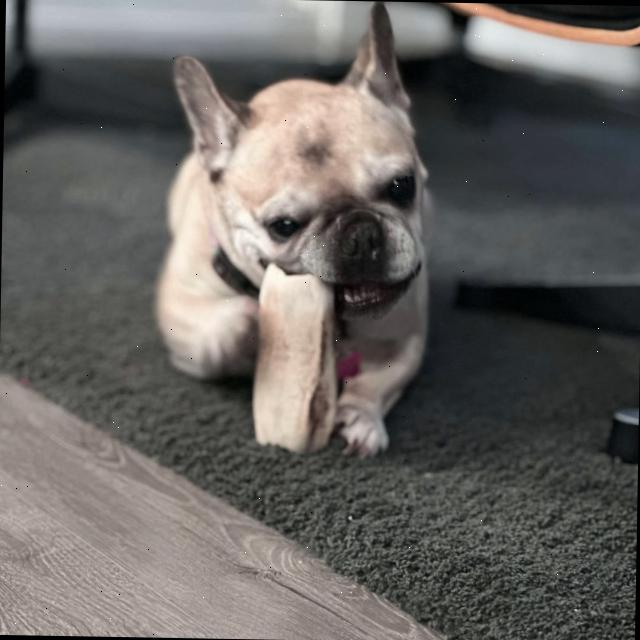french_bulldog_dog: (161, 0, 445, 329)
